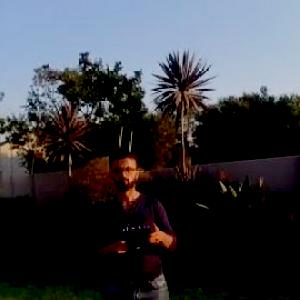follow: (88, 137, 184, 299)
